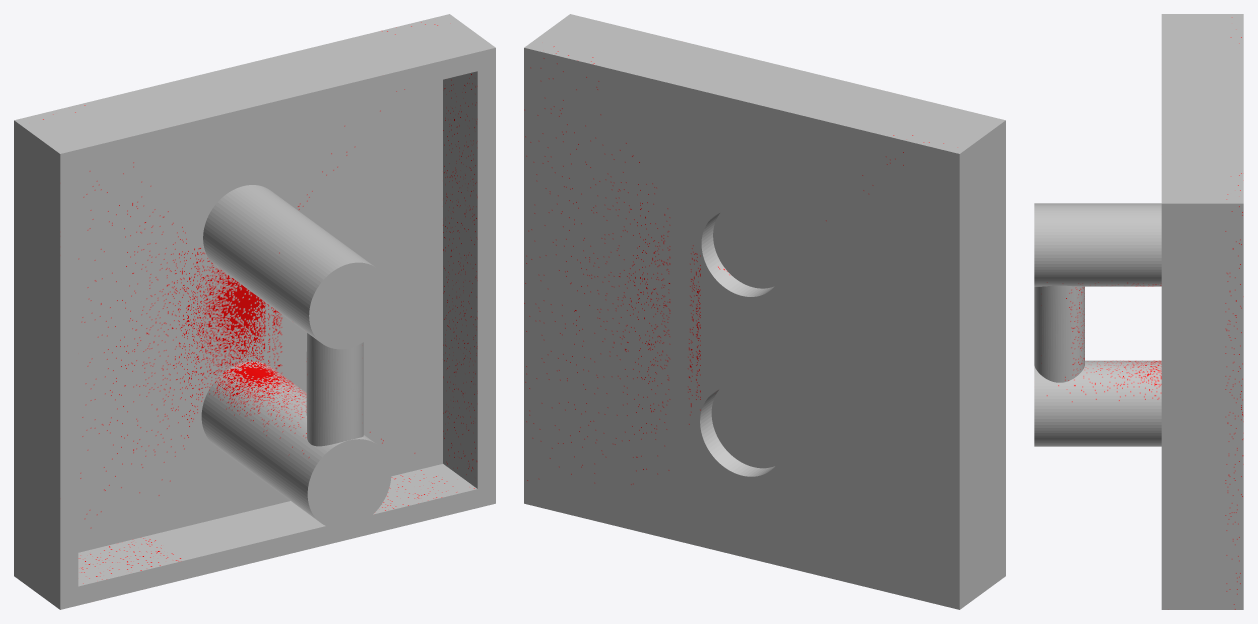
The model's file is fusion-test_textured.obj.
The picture shows the model from 3 angles, left to right: view 1: azimuth 30°, elevation 25°; view 2: azimuth 150°, elevation 25°; view 3: azimuth 270°, elevation 25°; orthographic projection. The views are drawn at different scales.
Visible parts, largest first — view 1: Body2; view 2: Body2; view 3: Body2.
Part boxes in pixels (x1,y1,x2,y2): Body2: (14,14,495,609); Body2: (524,14,1005,609); Body2: (1034,14,1243,609).
Size of the model in its own units: 109 by 109 by 51.
1 material, 1 textured.
